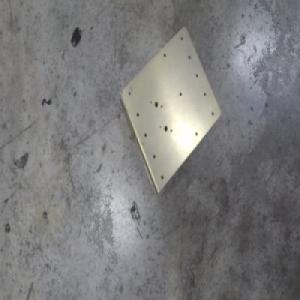MetalSheet: (118, 25, 222, 196)
